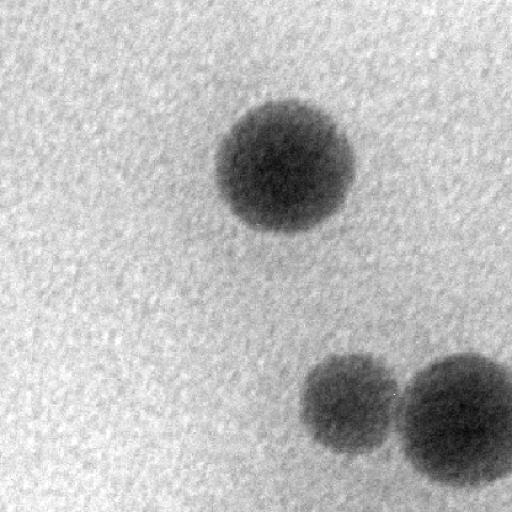Nanoparticles: (212, 93, 361, 238), (396, 348, 512, 492), (301, 353, 401, 458)
